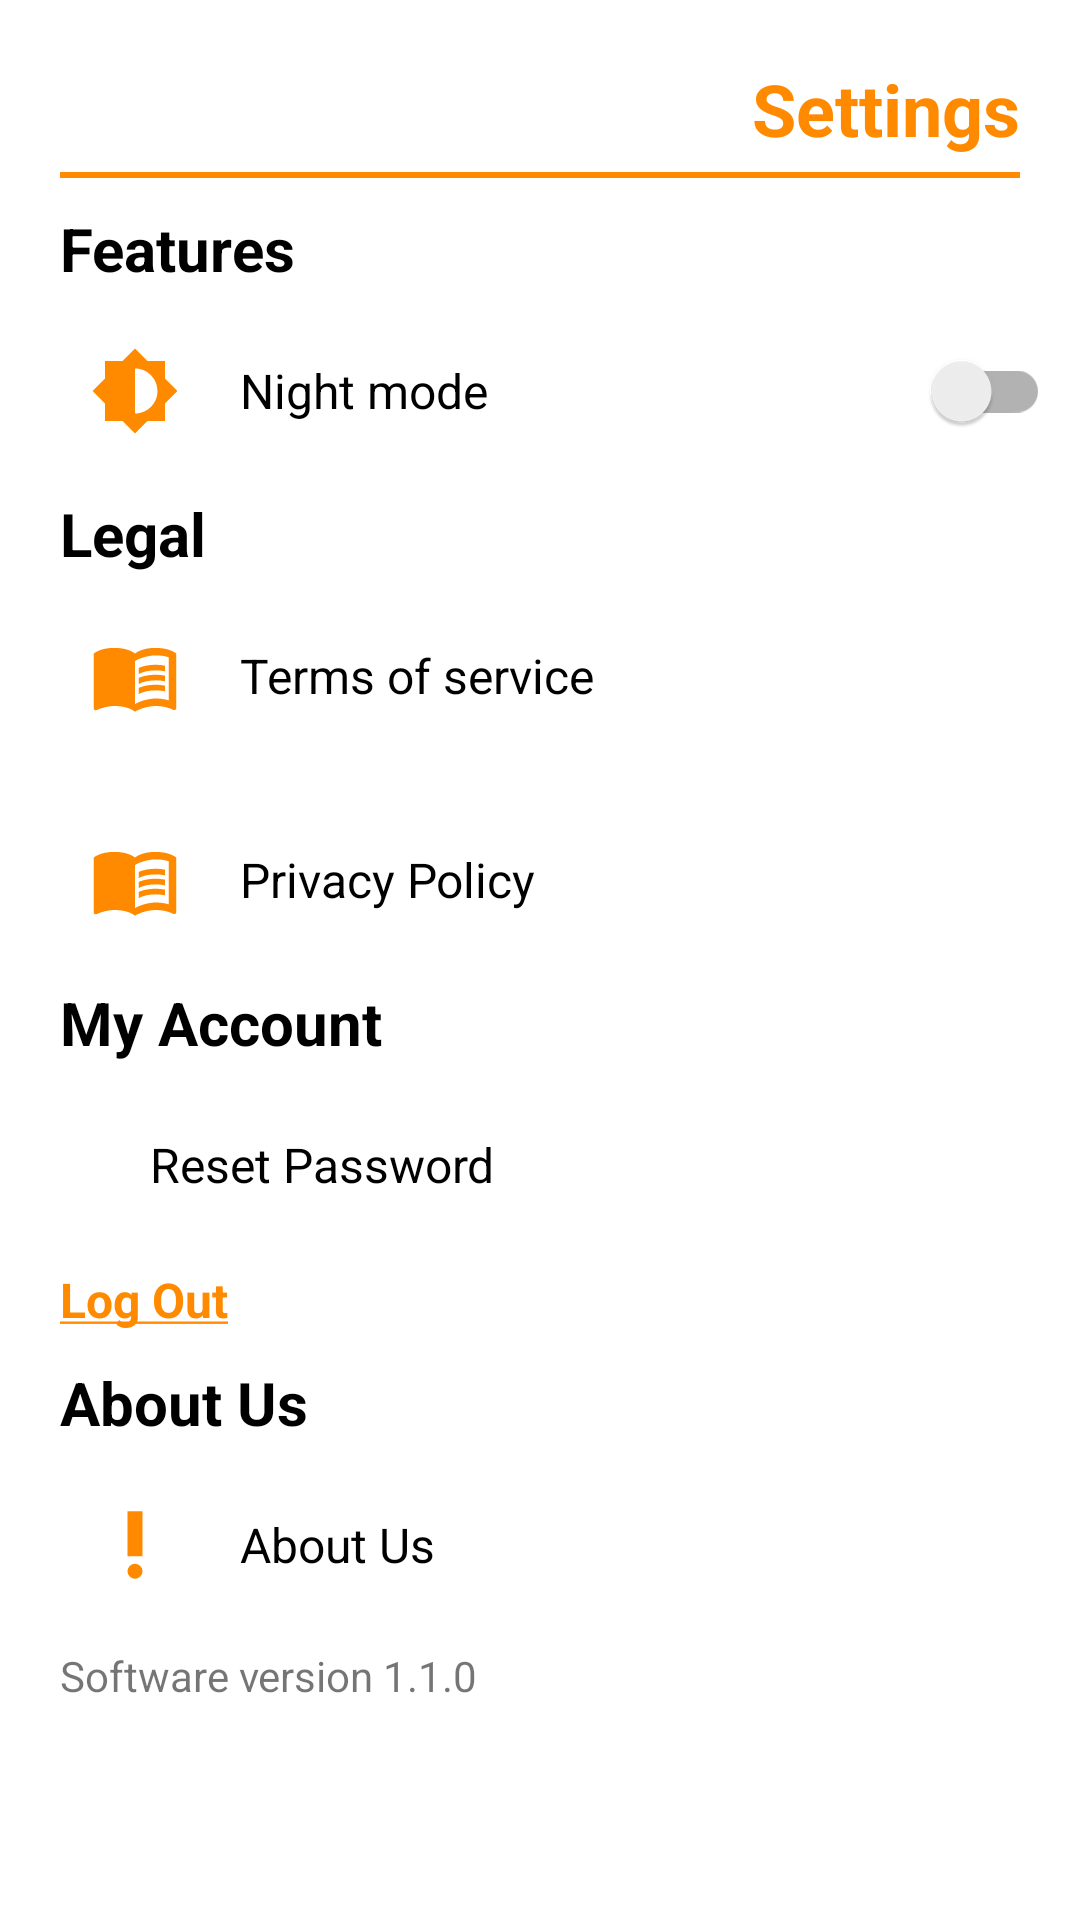

Named icons in this screenshot (1080×1920) and their bounding boxes, box=[x1, y1, x2, y2]:
book: box=[93, 648, 177, 712]
brightness medium: box=[93, 348, 177, 434]
